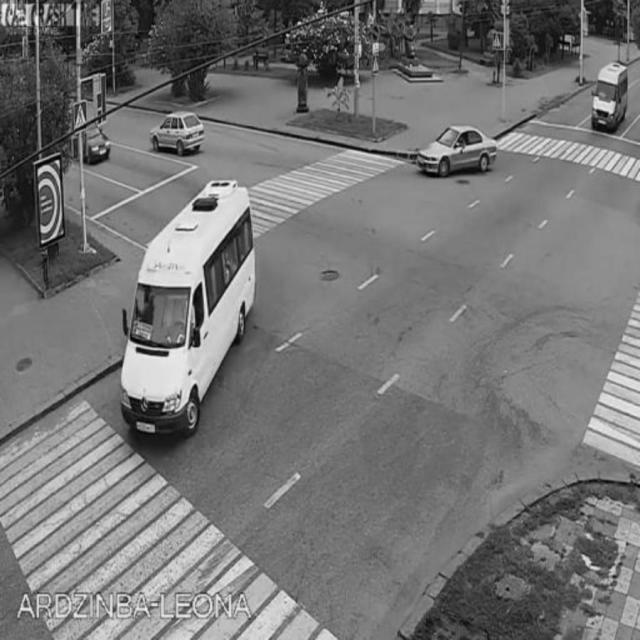vehicle: (121, 175, 257, 439), (417, 124, 497, 179), (146, 108, 204, 159), (591, 61, 628, 131), (74, 114, 114, 170)
